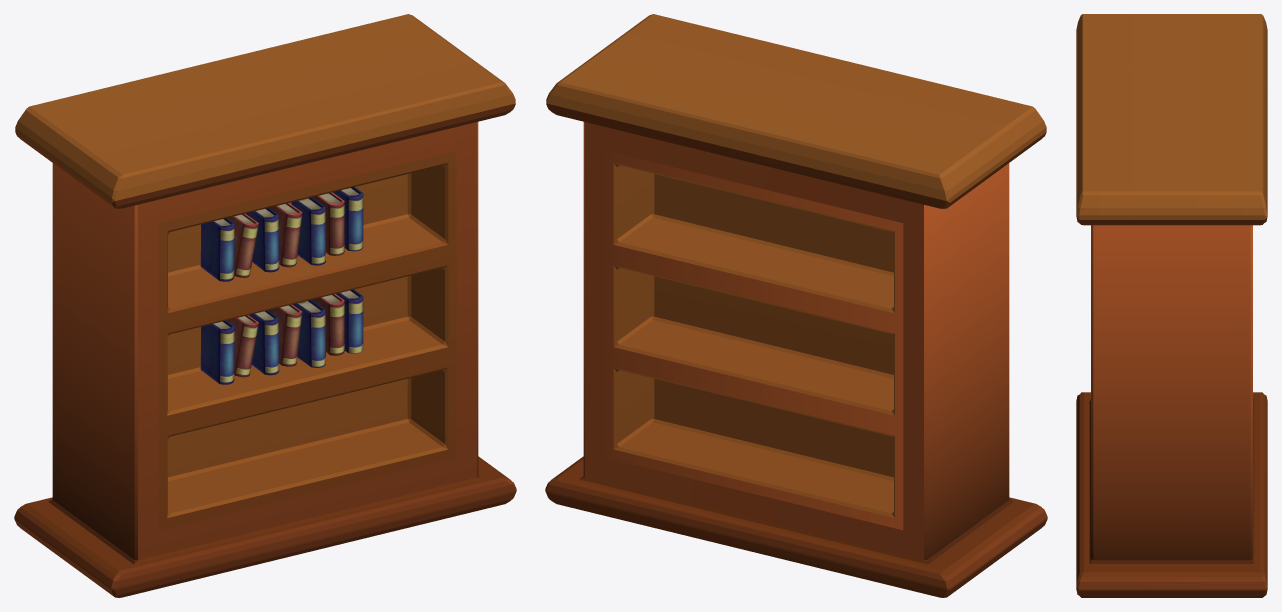
The model's file is book_shelf_Sample.glb.
3 views of the same model, side by side, from view 1: azimuth 30°, elevation 25°; view 2: azimuth 150°, elevation 25°; view 3: azimuth 270°, elevation 25° (orthographic). The views are drawn at different scales.
Parts seen in each view (by area): view 1: Shelf01-col, Book_Sample.003, Book_Sample.004, Book_Sample002, Book_Sample.005; view 2: Shelf01-col; view 3: Shelf01-col.
Part boxes in pixels (x1,y1,x2,y2): Shelf01-col: [14, 14, 516, 597]; Book_Sample.003: [200, 187, 363, 281]; Book_Sample.004: [200, 289, 363, 384]; Book_Sample002: [227, 192, 344, 277]; Book_Sample.005: [226, 294, 344, 377]; Shelf01-col: [545, 14, 1047, 597]; Shelf01-col: [1076, 14, 1267, 597].
Bounding box in the file's own units: 4 × 3.99 × 1.7.
2 materials, 2 textured.
